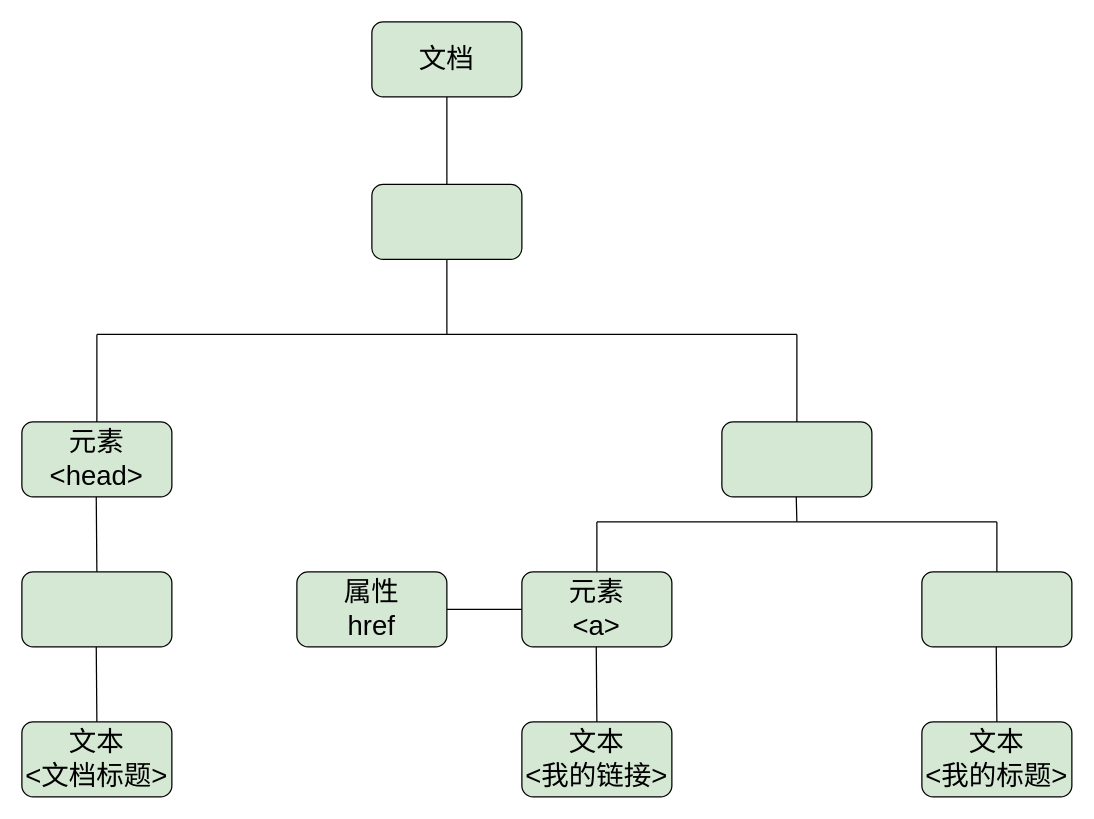
Some shapes in this 1094 by 819 pixel diagram are drawn without their labels. Here are the shapes that lost their labels. From the top down, the box of each, then its label:
(371, 183, 522, 259): 根元素 <html>
(721, 421, 872, 497): 元素 <body>
(21, 571, 172, 647): 元素 <title>
(921, 571, 1072, 647): 元素 <h1>
